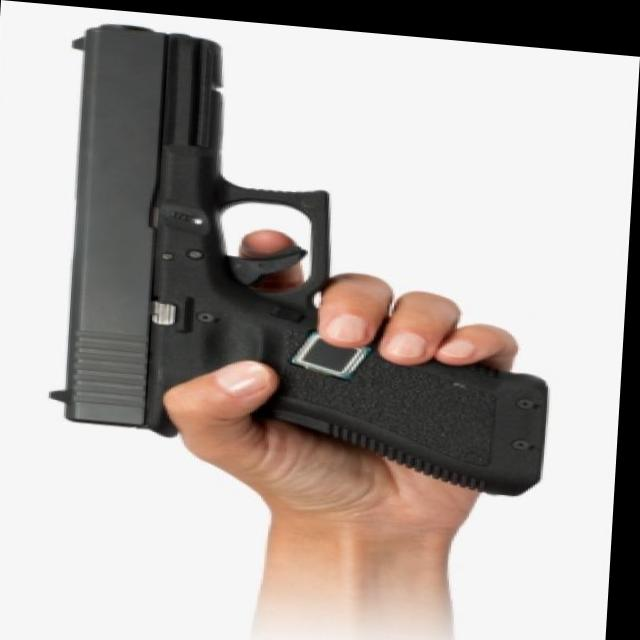handgun: (49, 19, 567, 490)
